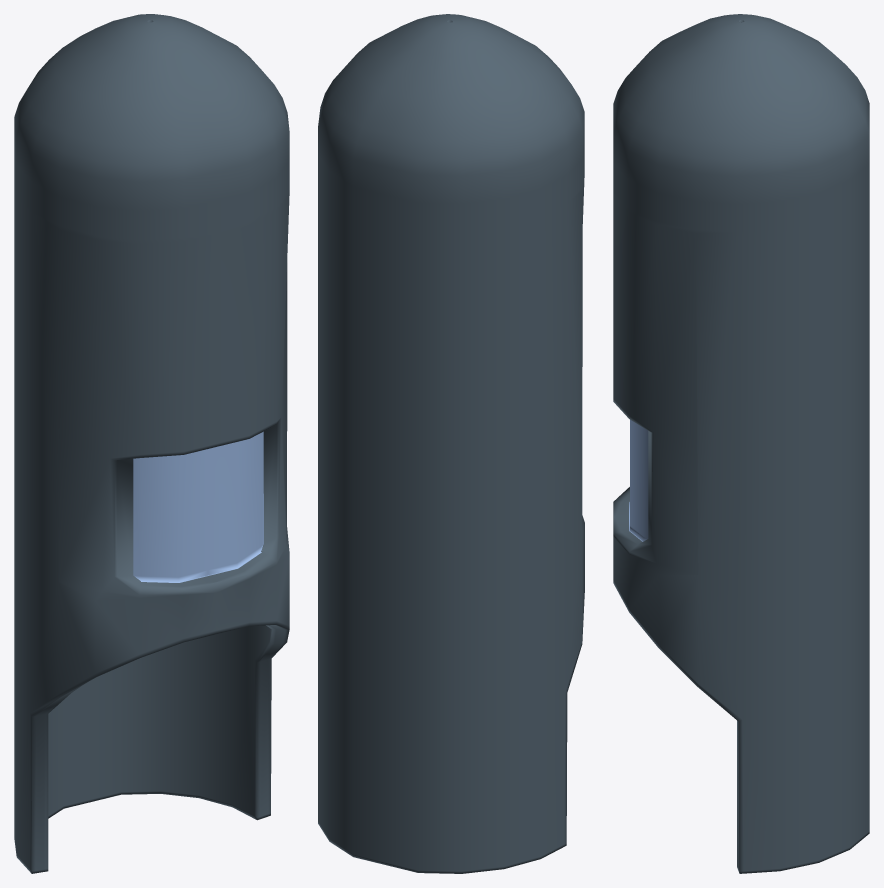
The model's file is tubePropWithSphereHeadV2.fbx.
3 renders of one model, left to right at view 1: azimuth 30°, elevation 25°; view 2: azimuth 150°, elevation 25°; view 3: azimuth 270°, elevation 25°, orthographic. The views are drawn at different scales.
Visible parts, largest first — view 1: Cylinder004; view 2: Cylinder004; view 3: Cylinder004.
Boxes of the visible parts, left/top/right/bottom form: Cylinder004: left=14, top=14, right=289, bottom=873; Cylinder004: left=318, top=14, right=584, bottom=873; Cylinder004: left=613, top=14, right=869, bottom=873.
Bounding box in the file's own units: 157 × 515 × 151.
